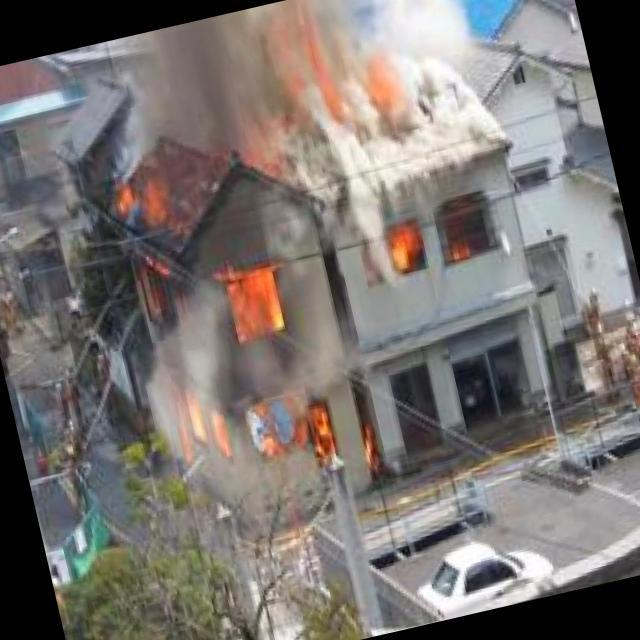Fire: (110, 147, 344, 505), (282, 16, 413, 126), (389, 213, 484, 275)
